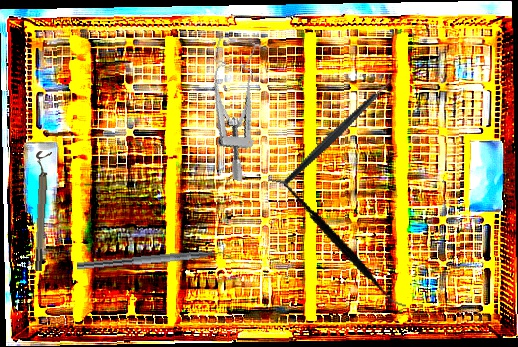Chopper: (259, 70, 415, 187), (76, 245, 236, 281)
Fixation Ring: (27, 150, 53, 272)
Spatula Surgical: (245, 176, 429, 310)
Speculum: (184, 34, 279, 182)
